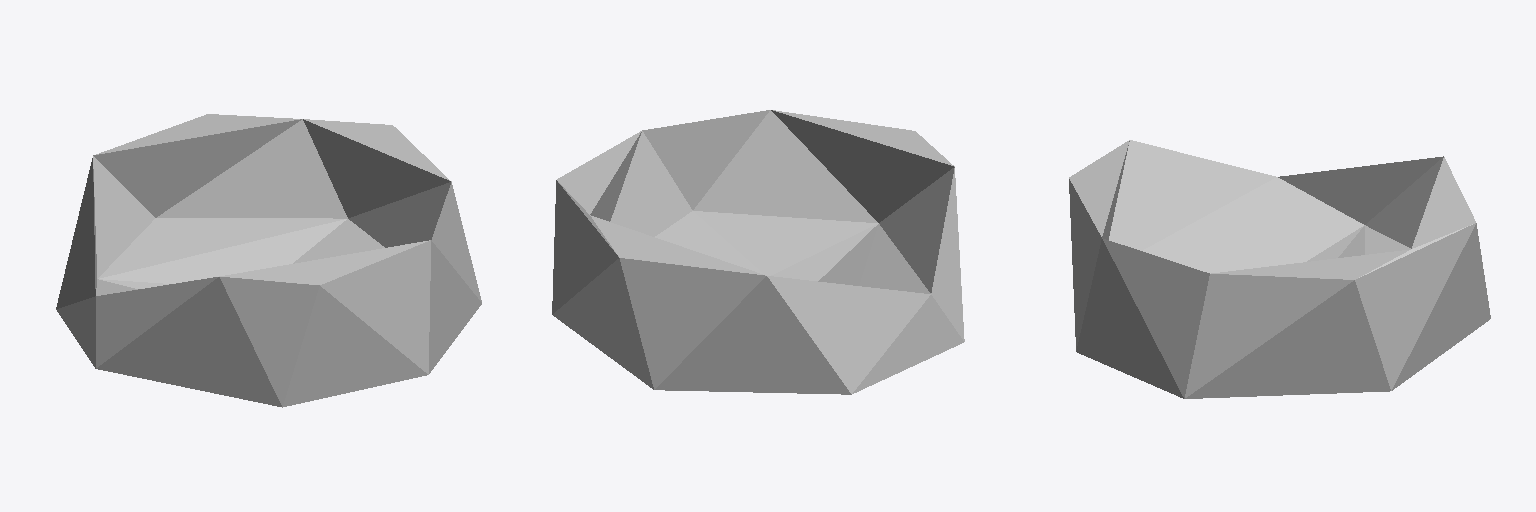
File: Bowl_decimated_convex.obj
3 renders of one model, left to right at view 1: azimuth 30°, elevation 25°; view 2: azimuth 150°, elevation 25°; view 3: azimuth 270°, elevation 25°, orthographic.
Parts seen in each view (by area): view 1: my_mesh_Bowl.001; view 2: my_mesh_Bowl.001; view 3: my_mesh_Bowl.001.
Boxes of the visible parts, box(x1,y1,x2,y2) form: my_mesh_Bowl.001: box(56, 114, 481, 407); my_mesh_Bowl.001: box(552, 110, 964, 394); my_mesh_Bowl.001: box(1069, 140, 1490, 398).
Bounding box in the file's own units: 39.91 × 13.18 × 40.88.